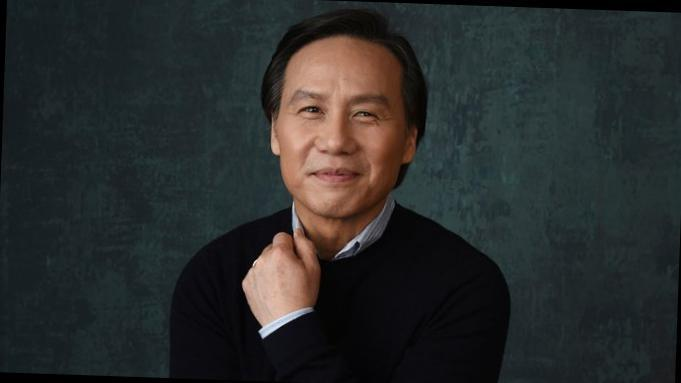Sober: (284, 48, 398, 206)
